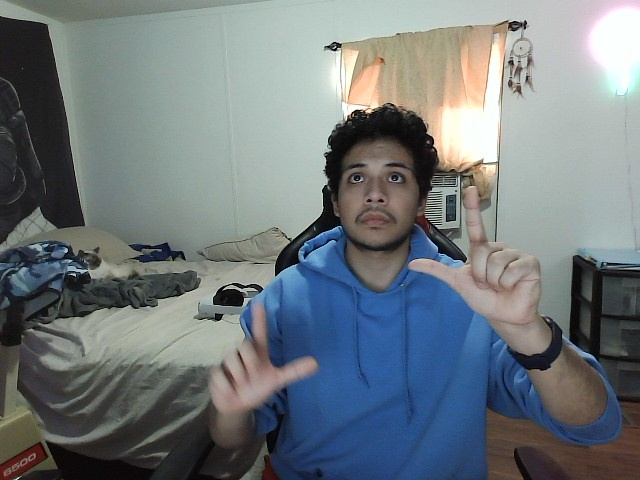L: (408, 180, 544, 322), (209, 300, 319, 417)
